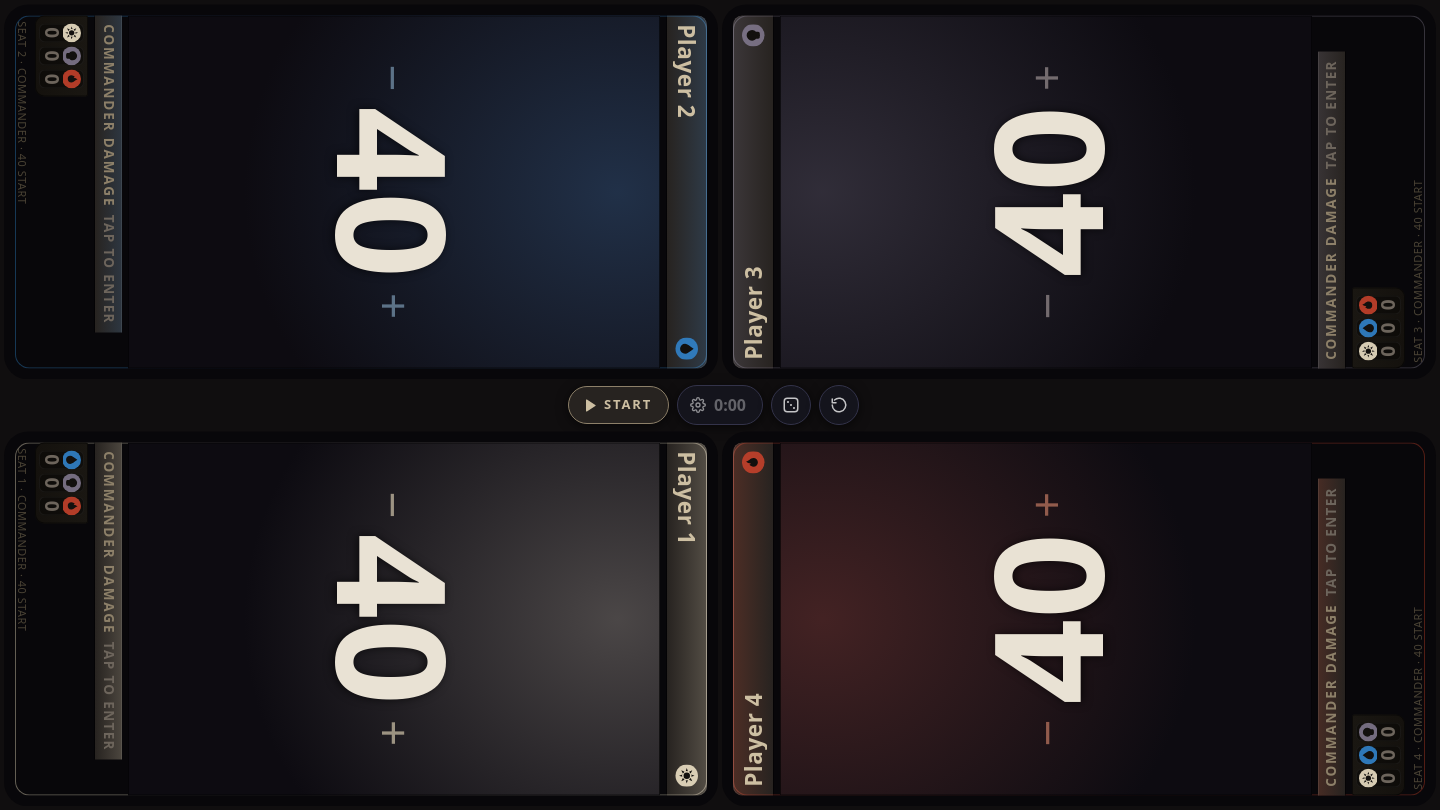
Test: what the options are drawn as (ROLL-9) › draws a die as a shape carrying its number, not as a word
Click the button named "Throw a die or flip a coin" at (791, 405), box top-left (771, 385), bottom-right (811, 425)
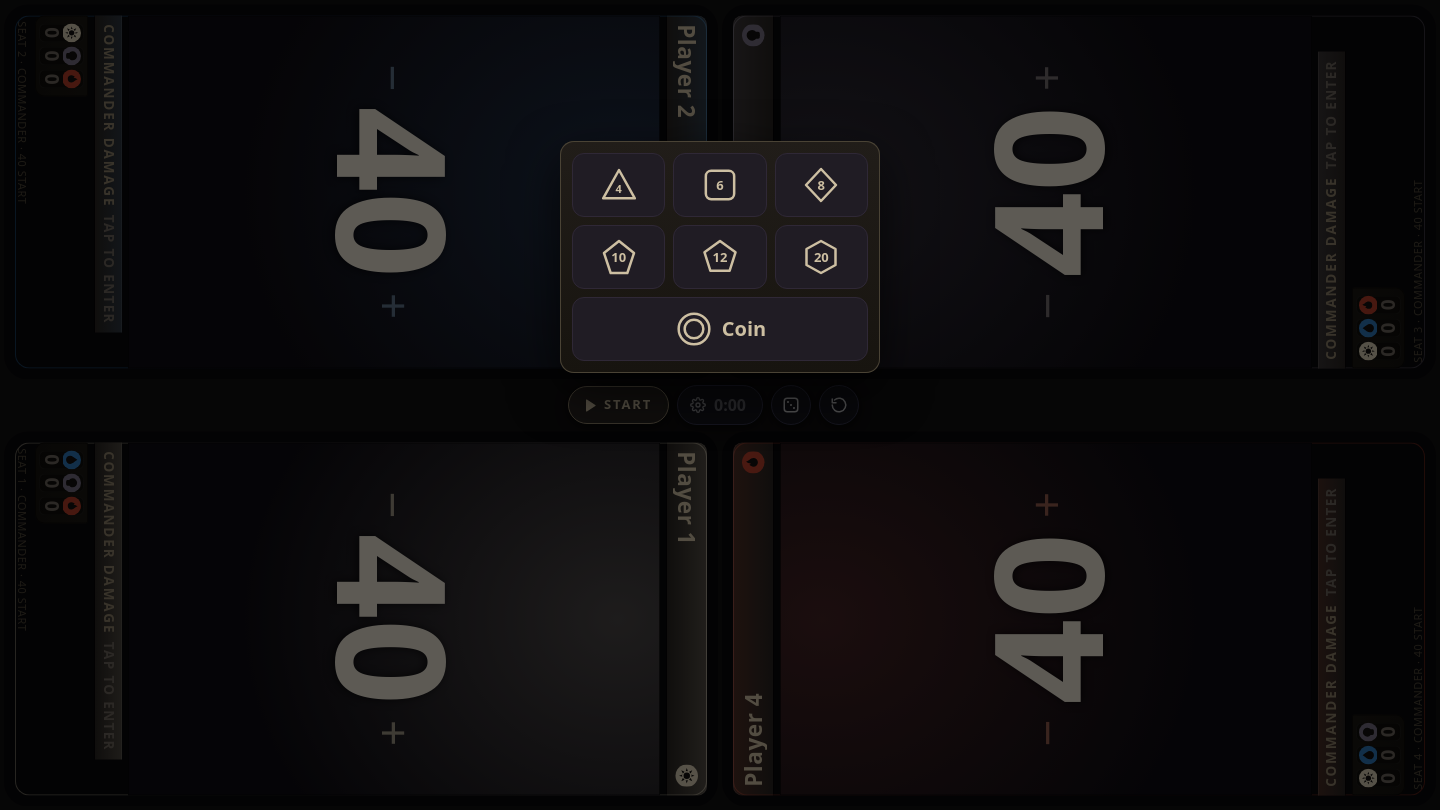
Expected: the text "d" is not shown
Expected: the 6th icon is shown, top-left (801, 237), bottom-right (841, 277)
Expected: the button "20" is shown, top-left (775, 225), bottom-right (868, 289)
